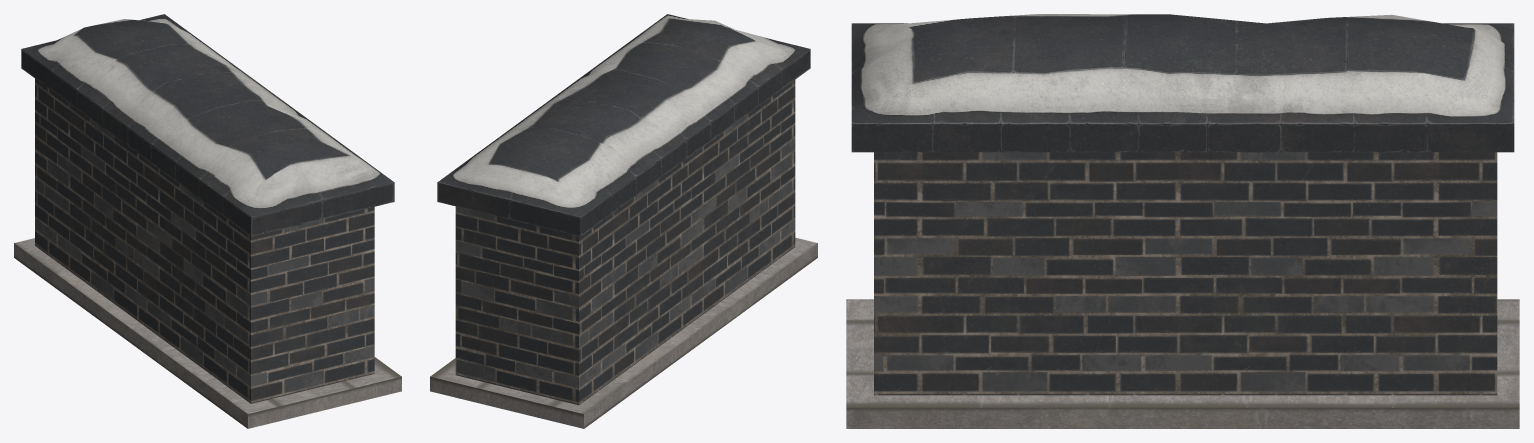
The model's file is SM_GateGuardPost_Parapet_003.fbx.
The picture shows the model from 3 angles, left to right: view 1: azimuth 30°, elevation 25°; view 2: azimuth 150°, elevation 25°; view 3: azimuth 270°, elevation 25°; orthographic projection. The views are drawn at different scales.
Visible parts, largest first — view 1: SM_GateGuardPost_Parapet_003; view 2: SM_GateGuardPost_Parapet_003; view 3: SM_GateGuardPost_Parapet_003.
Boxes of the visible parts, box(x1,y1,x2,y2) form: SM_GateGuardPost_Parapet_003: box(14, 14, 401, 428); SM_GateGuardPost_Parapet_003: box(430, 14, 817, 428); SM_GateGuardPost_Parapet_003: box(846, 14, 1519, 428).
Size of the model in its own units: 109 by 286 by 158.
3 materials, 3 textured.
